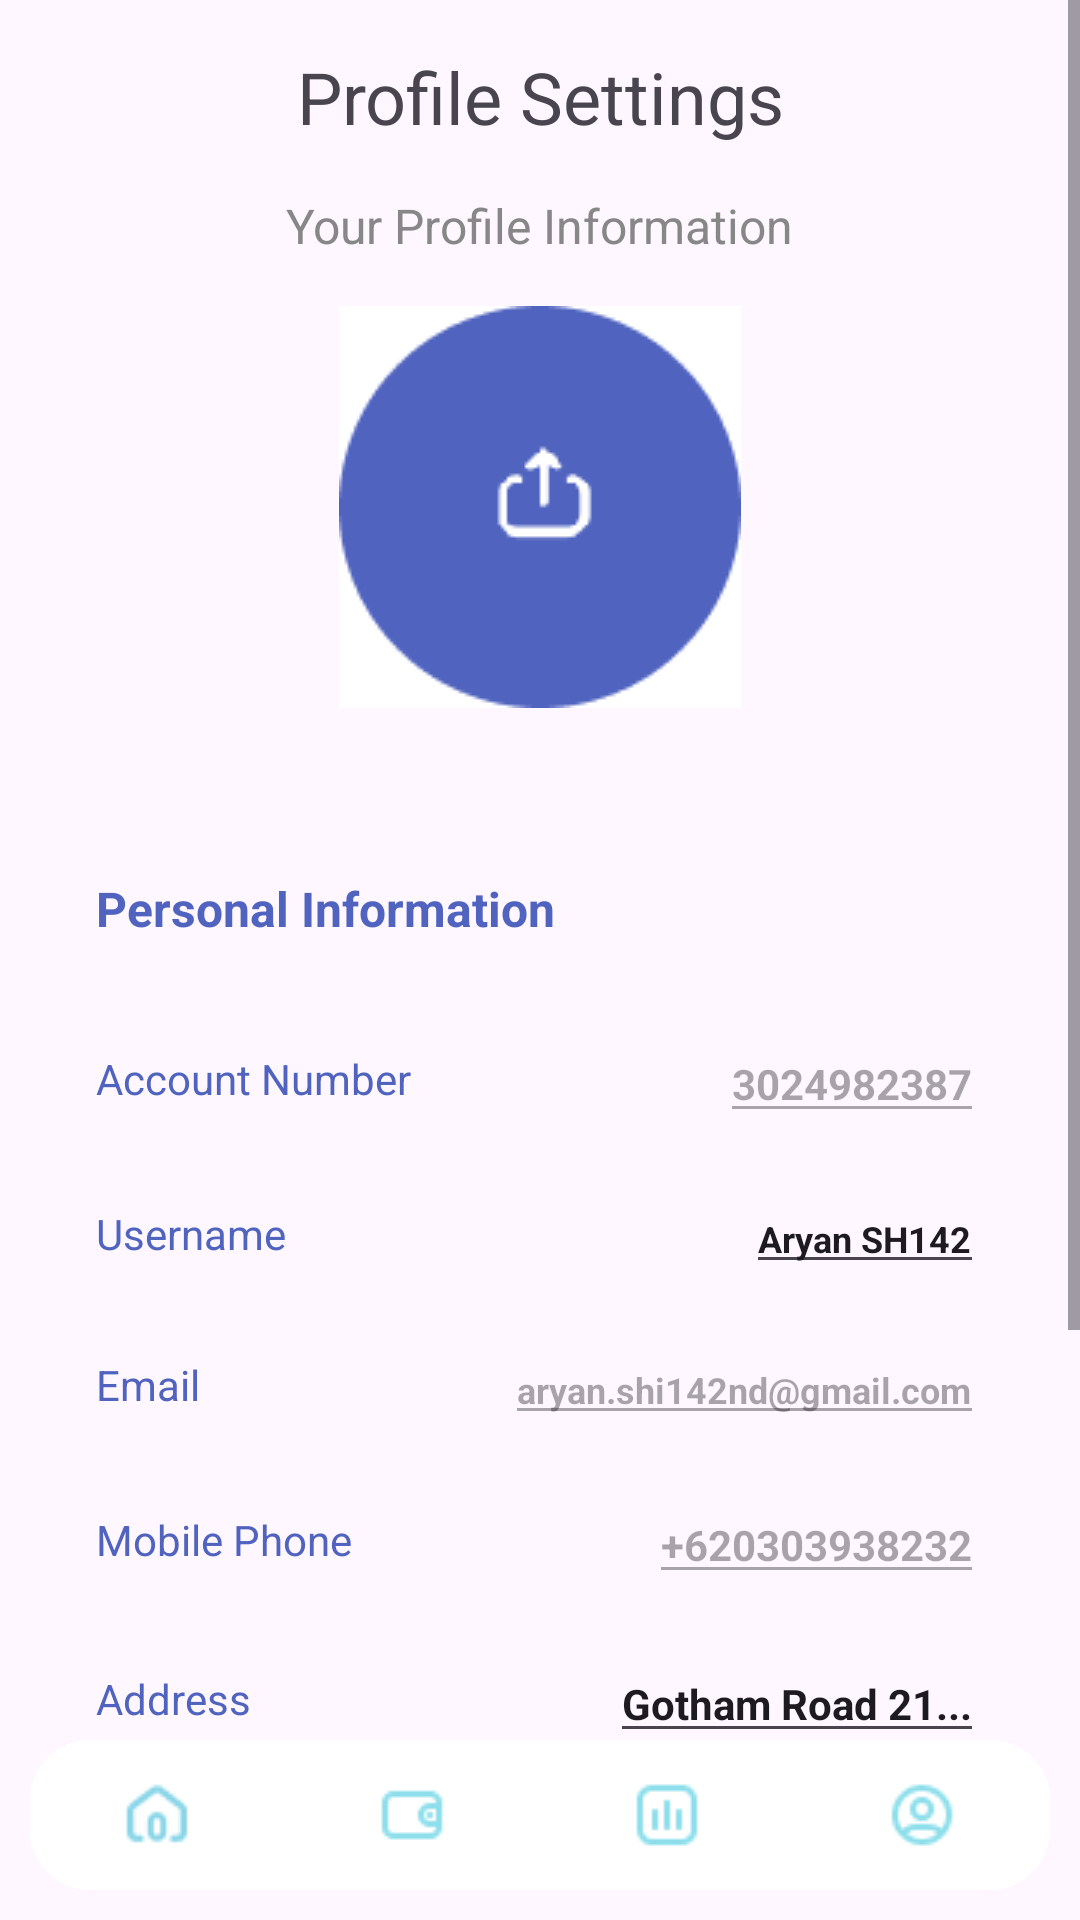

Named icons in this screenshot (1080px x 1920px) and their bounding boxes, (x1, y1, x2, y2):
chart: (636, 1784, 698, 1846)
home: (126, 1784, 188, 1843)
prof: (891, 1784, 953, 1846)
wallet: (381, 1790, 443, 1840)
